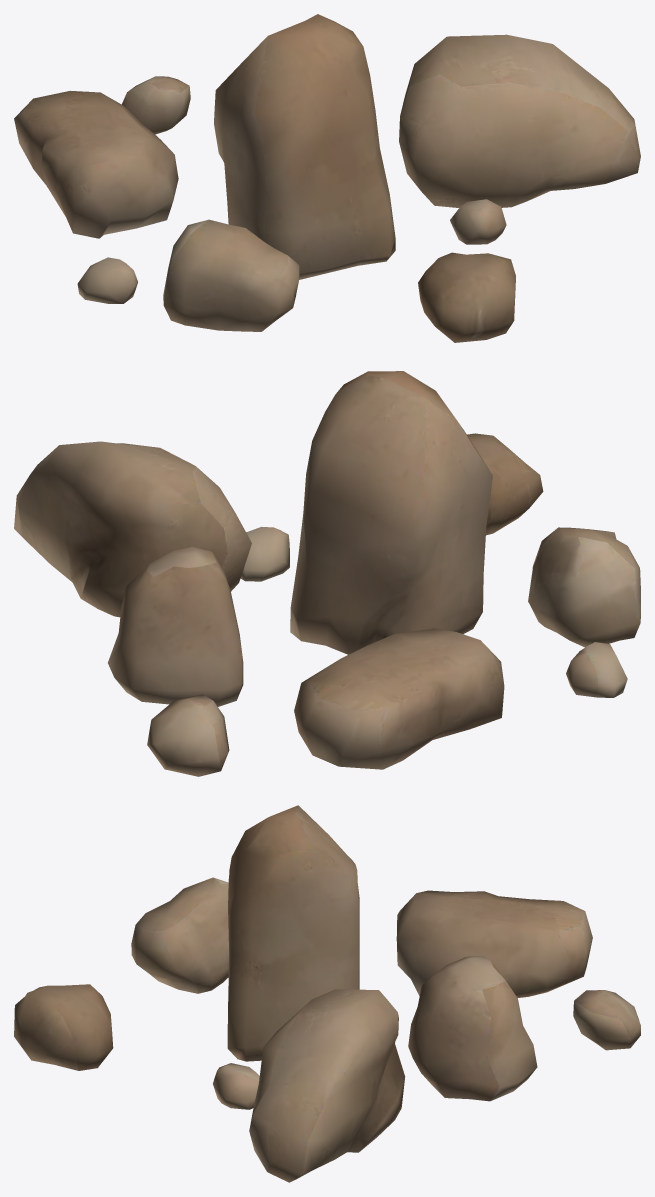
The picture shows the model from 3 angles, top to bottom: view 1: azimuth 30°, elevation 25°; view 2: azimuth 150°, elevation 25°; view 3: azimuth 270°, elevation 25°; orthographic projection. The views are drawn at different scales.
Parts seen in each view (by area): view 1: body0_model0_lod0_mesh0; view 2: body0_model0_lod0_mesh0; view 3: body0_model0_lod0_mesh0.
Boxes of the visible parts, <box> form: body0_model0_lod0_mesh0: <box>14,14,640,342</box>; body0_model0_lod0_mesh0: <box>14,371,640,776</box>; body0_model0_lod0_mesh0: <box>14,805,640,1182</box>.
Size of the model in its own units: 91.04 by 37.53 by 93.66.
Materials: 1 (1 with a texture image).
